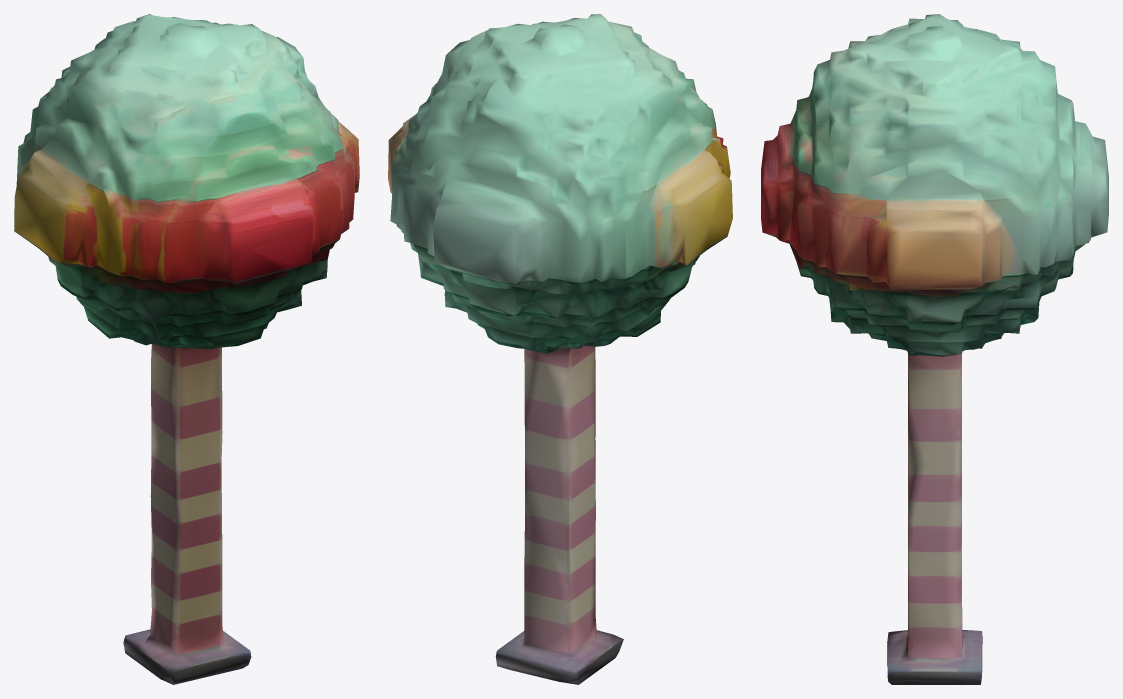
File: LollipopTree.glb
3 views of the same model, side by side, from view 1: azimuth 30°, elevation 25°; view 2: azimuth 150°, elevation 25°; view 3: azimuth 270°, elevation 25° (orthographic).
Visible parts, largest first — view 1: input; view 2: input; view 3: input.
Boxes of the visible parts, x1,y1,x2,y2 form: input: [14, 14, 359, 684]; input: [388, 14, 732, 684]; input: [761, 14, 1108, 684].
Bounding box in the file's own units: 8.01 × 16 × 8.01.
Materials: 1 (1 with a texture image).
